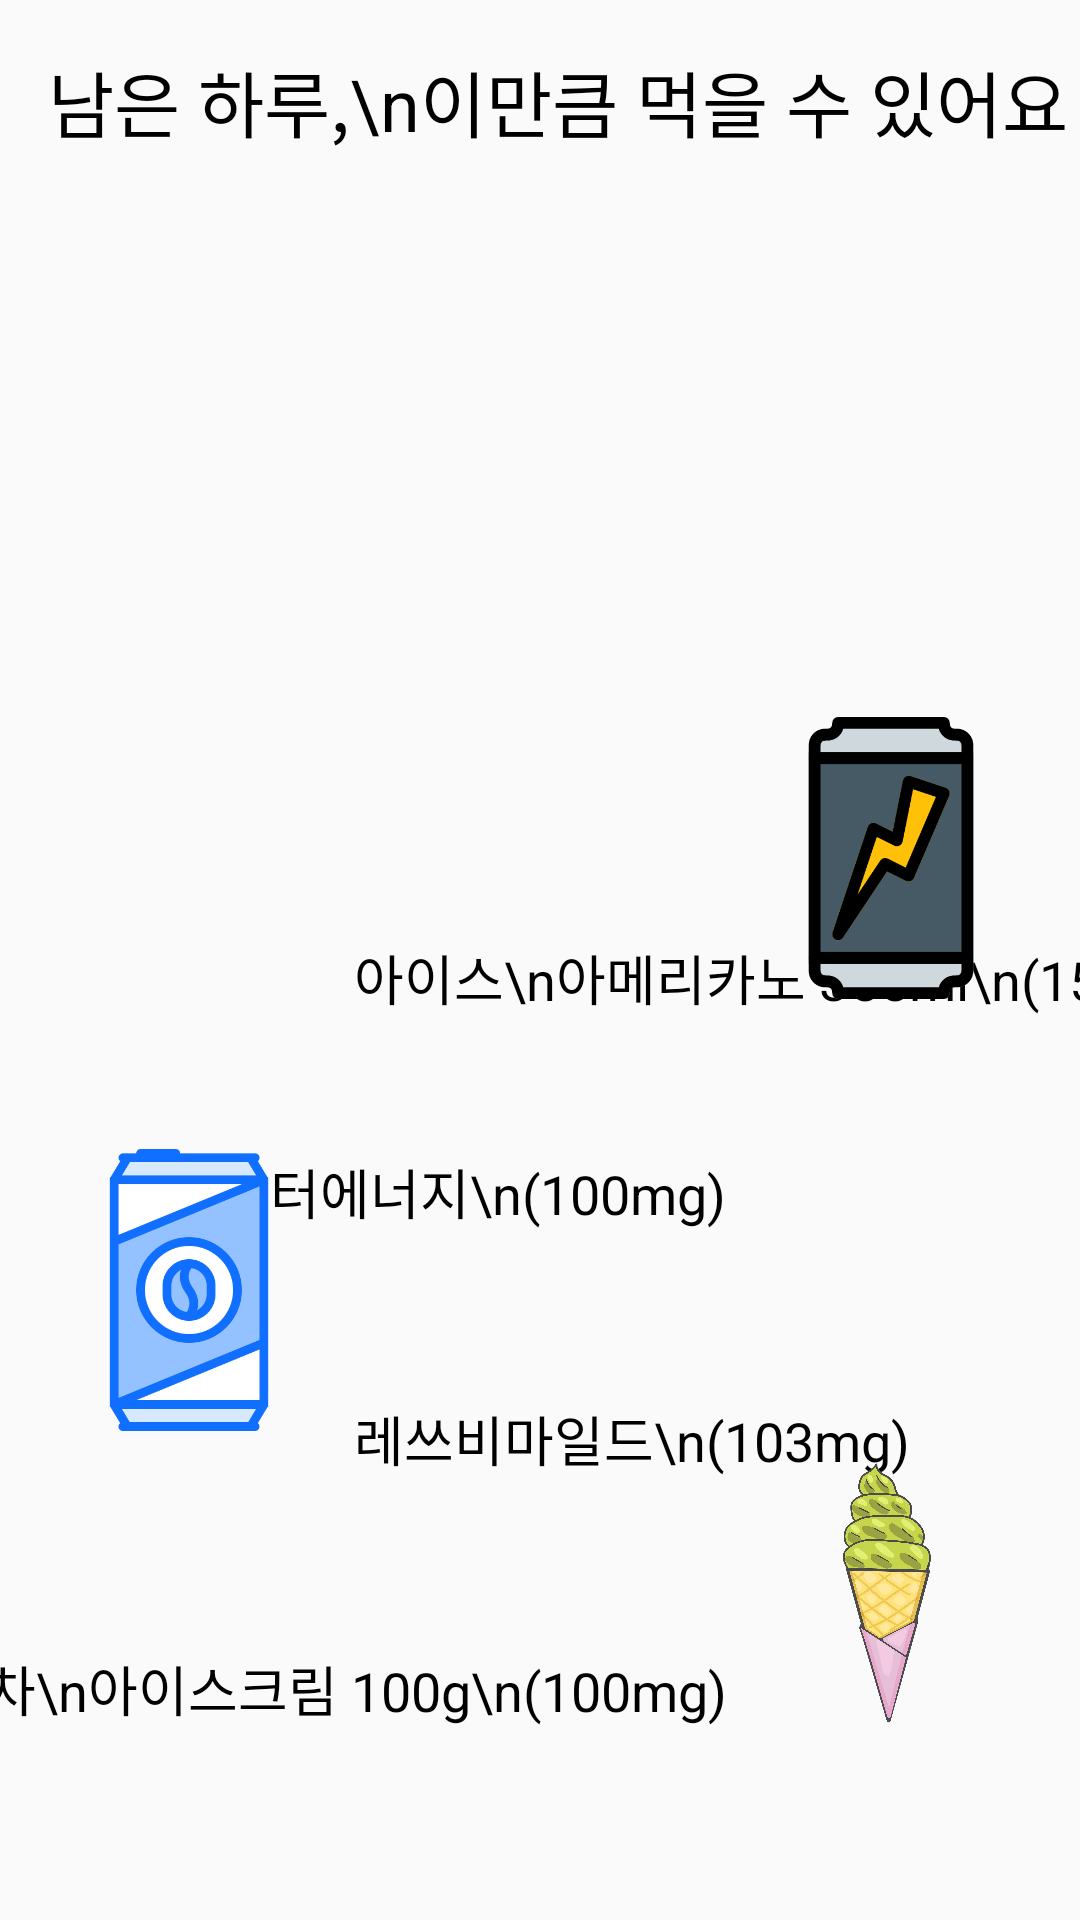

Where to tap for icons on this 1080*1920 app screen, as (x,y):
coffee lets: (211,1290)
energy drink mon: (888,861)
